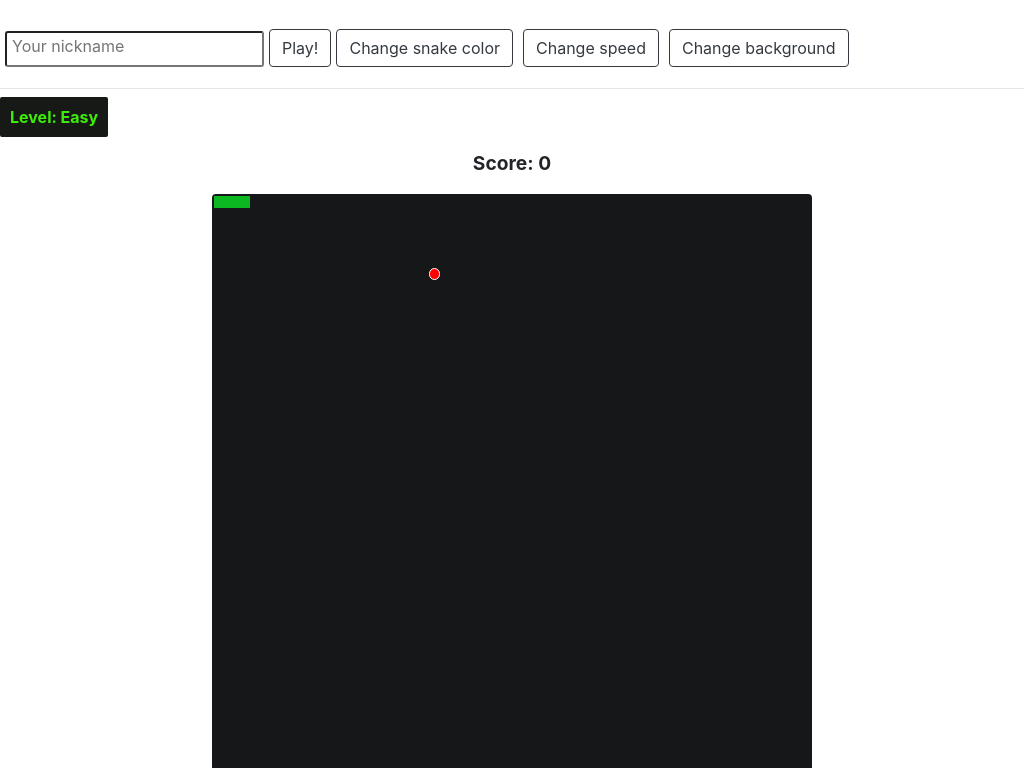
Tests the Game component › that all four buttons and the input field is not visible and level is visible when "Play!"-button is clicked
The image size is (1024, 768).
Type "test" into the field with placeholder "Your nickname". click: point(134, 49)
box: [5,31,264,67]
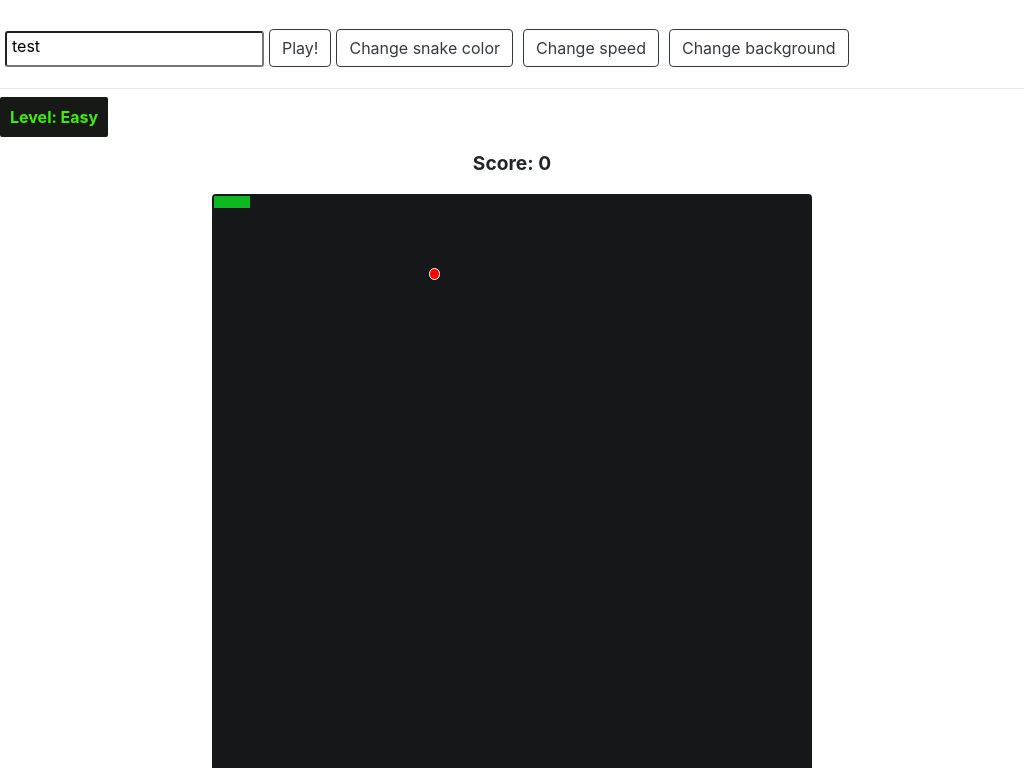
Click the button with test id "startbutton". click: point(300, 48)
box: [269,29,331,67]
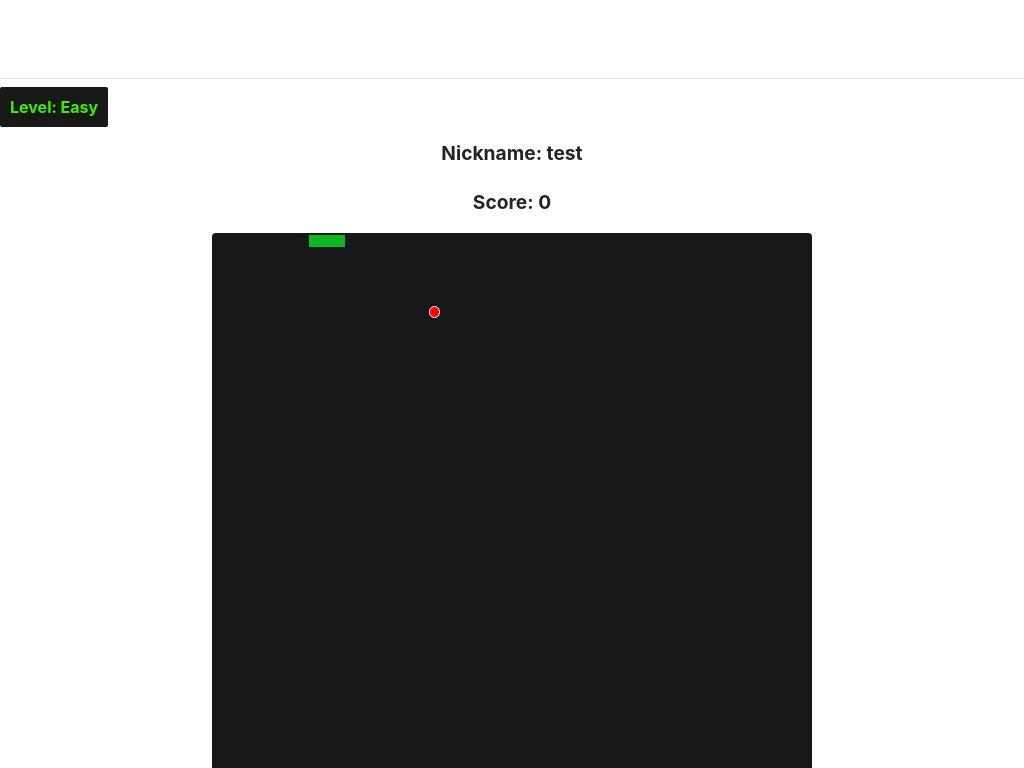
Expected: the button with test id "startbutton" is gone
Expected: the button with test id "snakecolor" is gone
Expected: the button with test id "snakespeed" is gone
